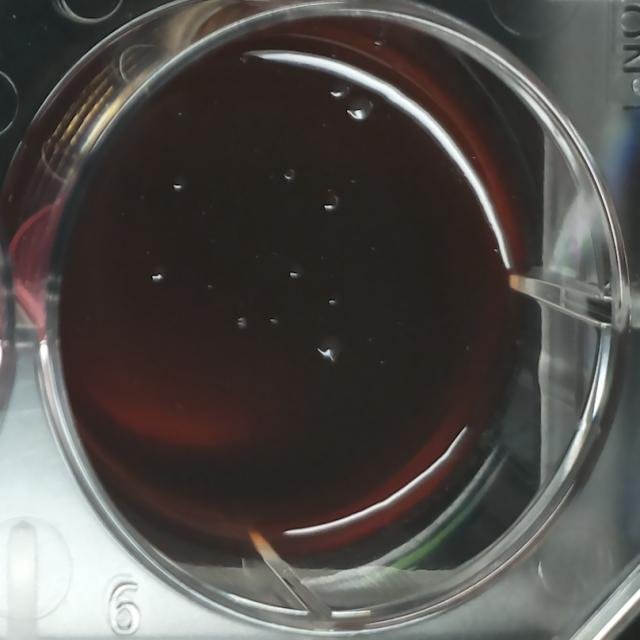Vibrio: (314, 331, 346, 367)
